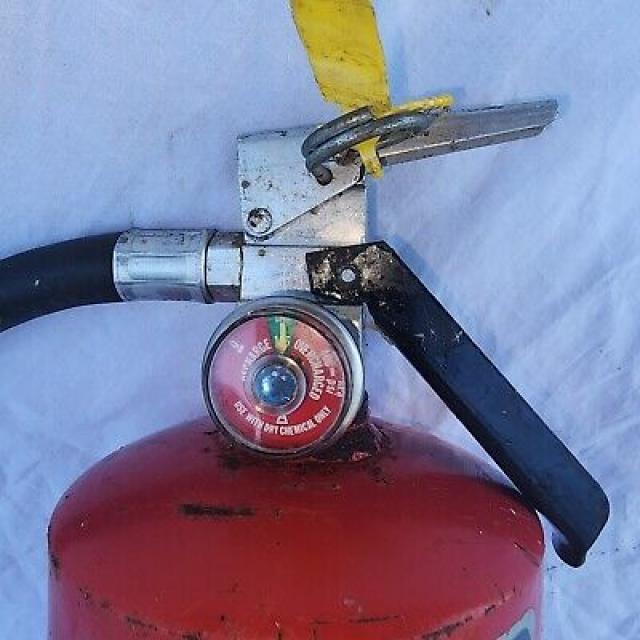pressure gauge: (202, 297, 363, 456)
